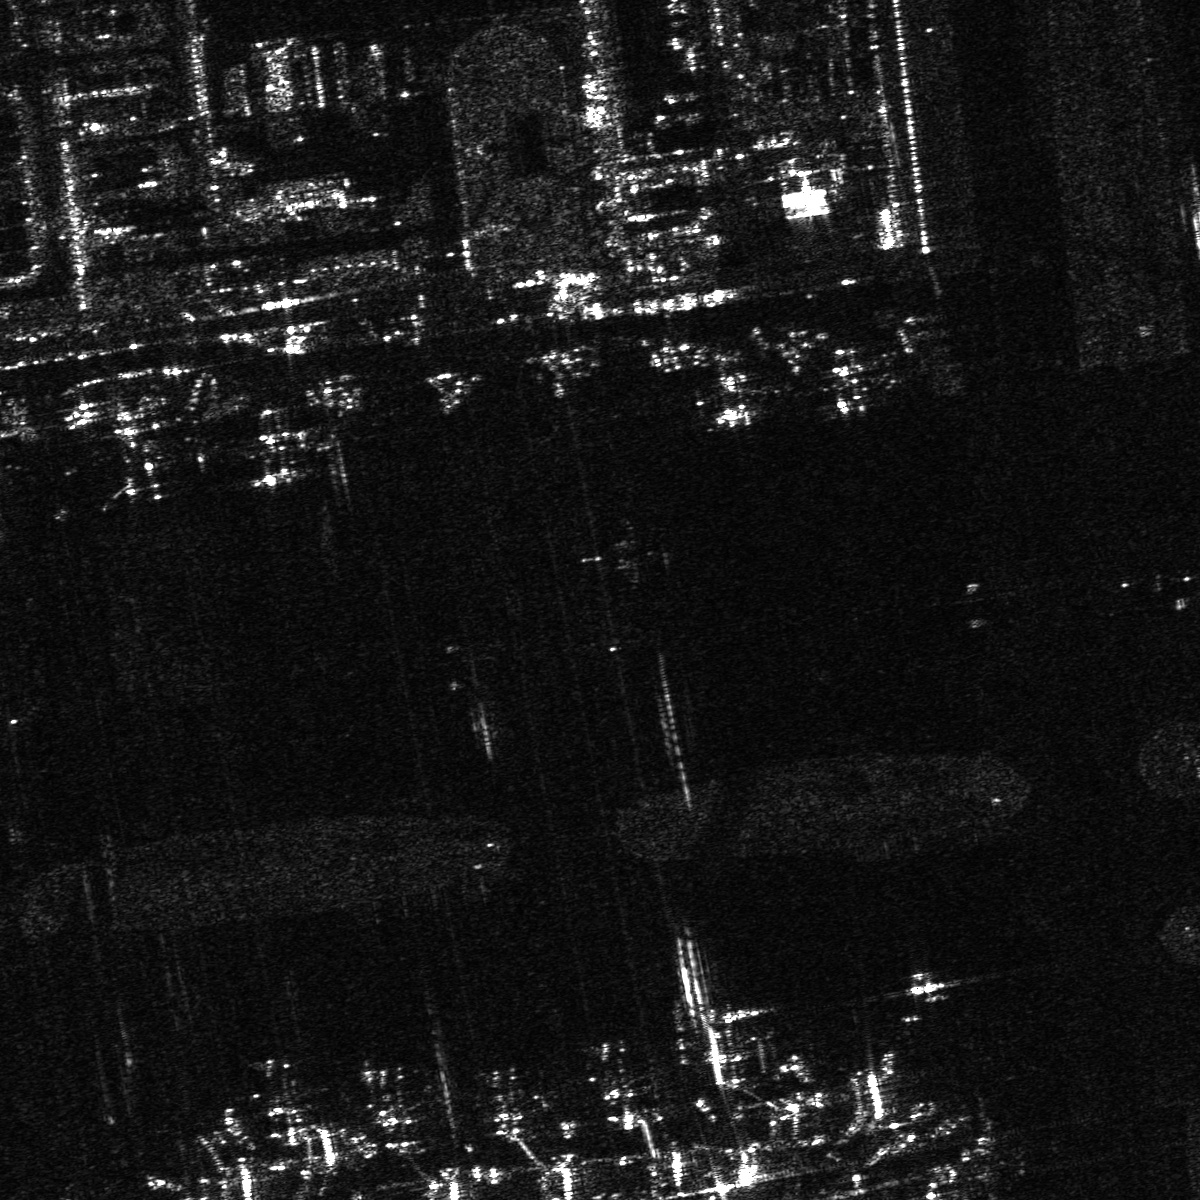A220: (245, 1057, 333, 1145), (356, 1064, 438, 1155), (473, 1062, 553, 1145), (581, 1038, 651, 1127)
Boeing737: (689, 365, 776, 423)
Boeing787: (805, 338, 896, 416)
other: (67, 407, 207, 511), (238, 401, 320, 487)
